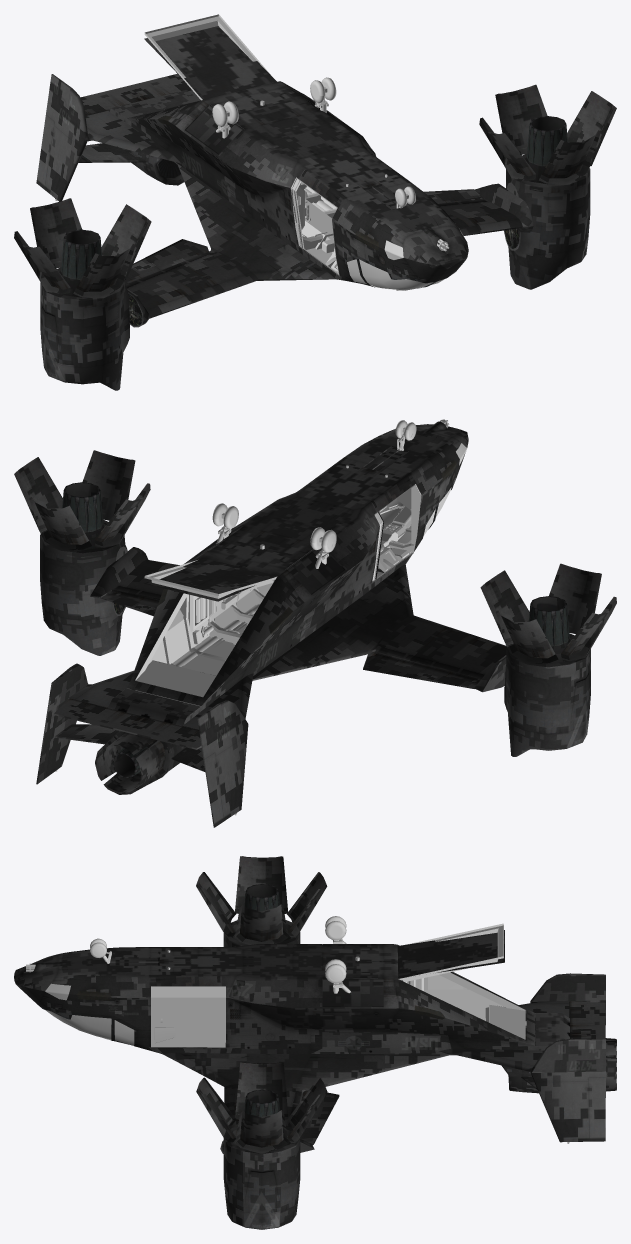
Rendered from n0fm13cndc-vtol.glb.
The picture shows the model from 3 angles, top to bottom: view 1: azimuth 30°, elevation 25°; view 2: azimuth 150°, elevation 25°; view 3: azimuth 270°, elevation 25°; orthographic projection. The views are drawn at different scales.
Visible parts, largest first — view 1: Node17, Node9, Node11, Node10, Node1, Node5, Node19, Node6, Node7, Node16; view 2: Node17, Node11, Node9, Node10, Node16, Node1, Node5, Node6, Node7; view 3: Node17, Node11, Node16, Node10, Node19, Node9, Node5, Node7.
Boxes of the visible parts, x1=… form: Node17: x1=14, y1=26, x2=616, y2=327; Node9: x1=40, y1=229, x2=129, y2=390; Node11: x1=36, y1=73, x2=200, y2=201; Node10: x1=504, y1=116, x2=590, y2=289; Node1: x1=291, y1=178, x2=339, y2=276; Node5: x1=144, y1=14, x2=272, y2=100; Node19: x1=295, y1=223, x2=465, y2=290; Node6: x1=212, y1=101, x2=238, y2=138; Node7: x1=310, y1=77, x2=336, y2=112; Node16: x1=55, y1=100, x2=449, y2=290; Node17: x1=14, y1=421, x2=616, y2=813; Node11: x1=36, y1=663, x2=248, y2=827; Node9: x1=504, y1=596, x2=590, y2=756; Node10: x1=40, y1=482, x2=127, y2=655; Node16: x1=55, y1=419, x2=449, y2=815; Node1: x1=207, y1=484, x2=421, y2=644; Node5: x1=144, y1=560, x2=276, y2=598; Node6: x1=310, y1=527, x2=336, y2=568; Node7: x1=212, y1=503, x2=238, y2=544; Node17: x1=14, y1=856, x2=569, y2=1153; Node11: x1=501, y1=973, x2=616, y2=1142; Node16: x1=26, y1=950, x2=569, y2=1143; Node10: x1=223, y1=1089, x2=300, y2=1229; Node19: x1=45, y1=983, x2=175, y2=1045; Node9: x1=223, y1=884, x2=300, y2=946; Node5: x1=398, y1=923, x2=503, y2=981; Node7: x1=325, y1=959, x2=350, y2=993.
Size of the model in its own units: 79.04 by 27.18 by 77.15.
Materials: 7 (1 with a texture image).
